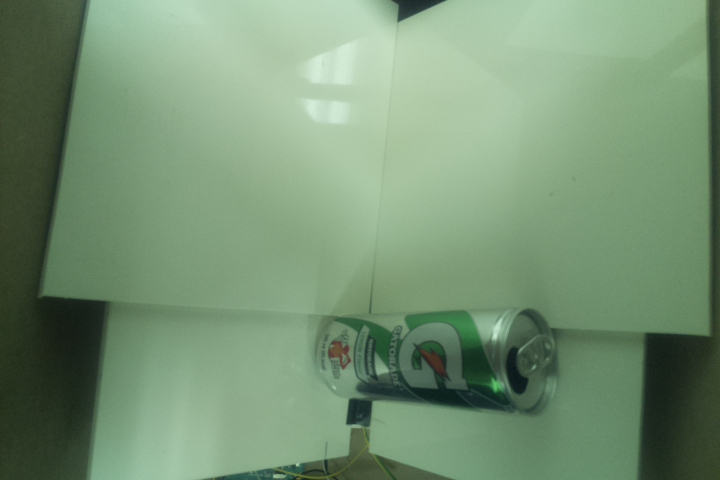can: (316, 307, 564, 417)
